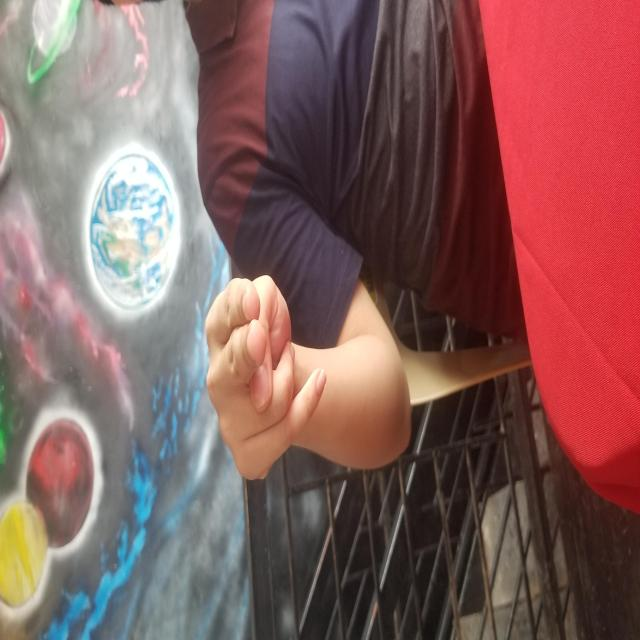N: (157, 204, 367, 327)
